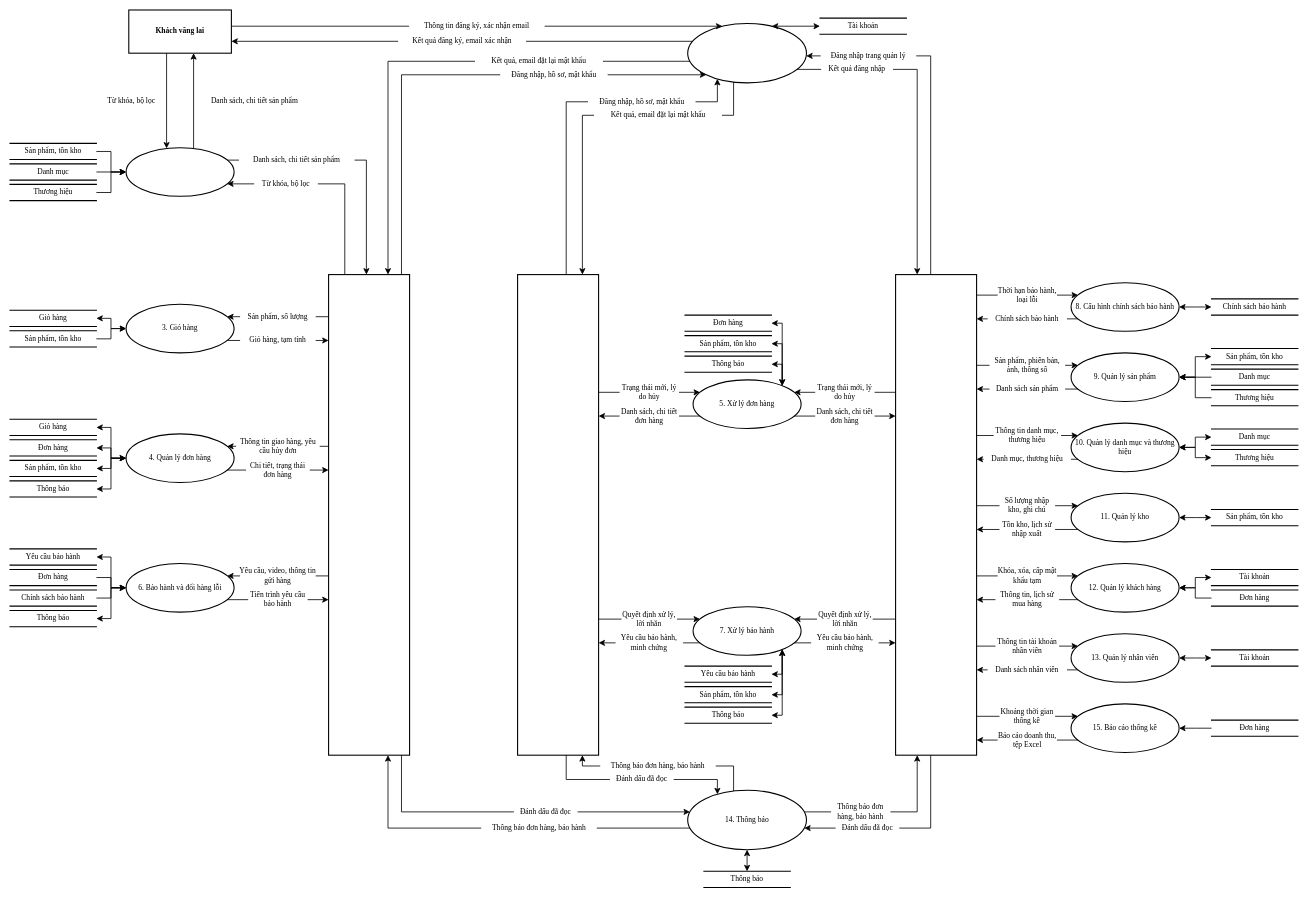
Image size: 1307x897. Some labels were removed from this diagram. The shapes that lost their labels are listed below. From the top down, each one's box as (x1, y1, x2, y2) in pixels, then its label:
(687, 23, 807, 83): 1. Quản lý tài khoản
(125, 147, 234, 197): 2. Tra cứu sản phẩm
(328, 274, 410, 755): Khách hàng
(517, 274, 599, 755): Nhân viên
(895, 274, 977, 755): Quản trị viên
